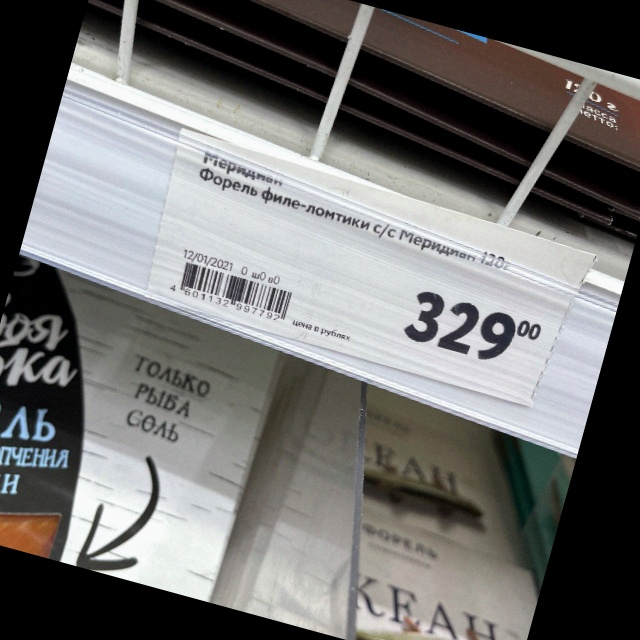name: (196, 146, 515, 276), (168, 259, 291, 324)
price: (405, 290, 545, 367)
price_tag: (145, 127, 597, 416)
